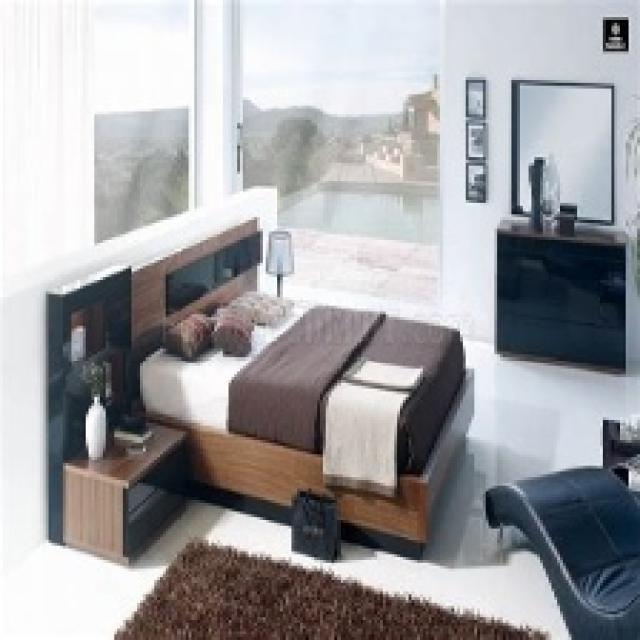bed: (133, 255, 528, 495)
chair: (481, 456, 640, 640)
lamp: (268, 225, 296, 302)
mirror: (512, 73, 616, 228)
